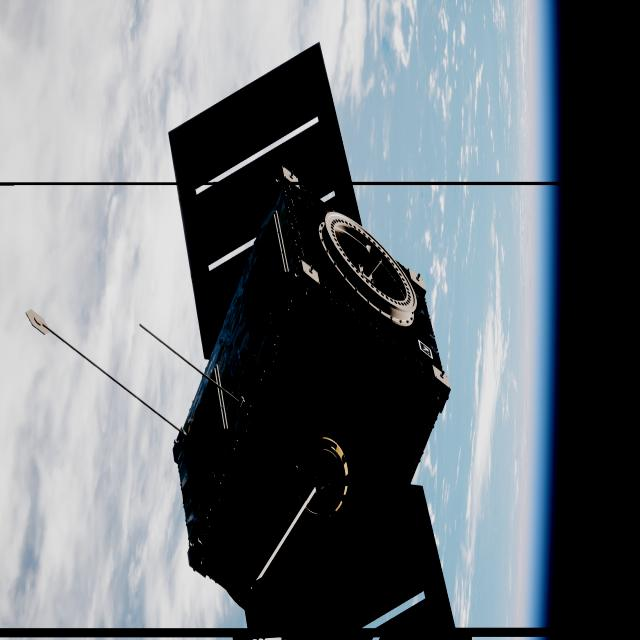medium_debris: (168, 46, 484, 640)
